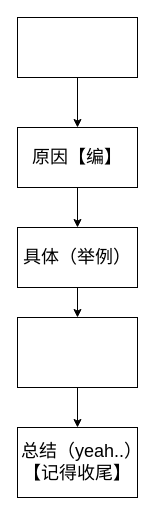
This 155x515 diagram has some shape labels left out. The shapes that lost their labels are listed below. From the top down, each one's centre as x and y in pixels, then its label:
At pixel 77 47: "观点/ 事实".
At pixel 77 352: "对比".
